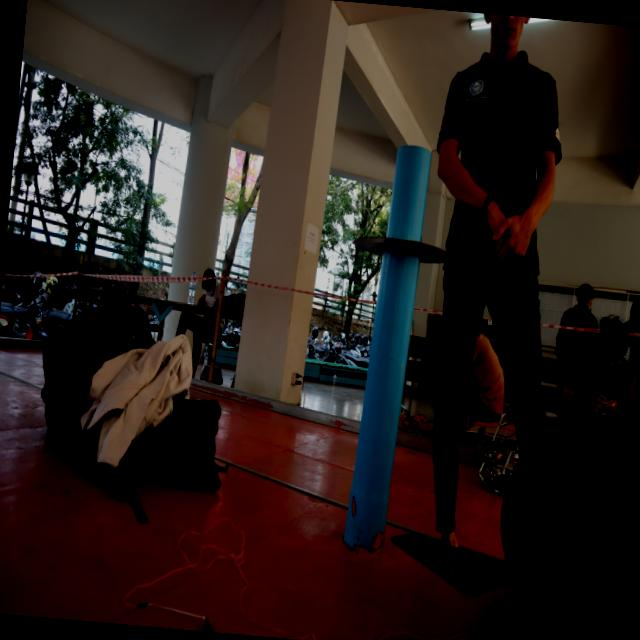pole: (337, 132, 466, 351)
